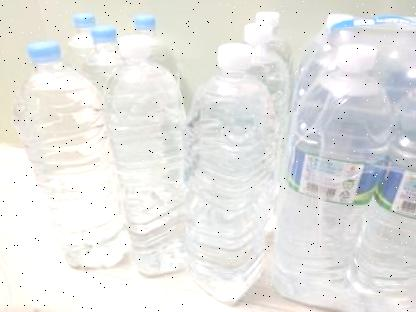Plastic Bottle: (275, 43, 393, 309), (20, 42, 128, 269), (187, 43, 275, 304), (108, 35, 186, 276), (349, 89, 416, 312)
